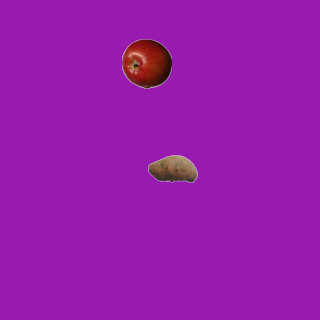Apple Braeburn: (121, 38, 171, 88)
Potato Sweet: (147, 143, 197, 193)
